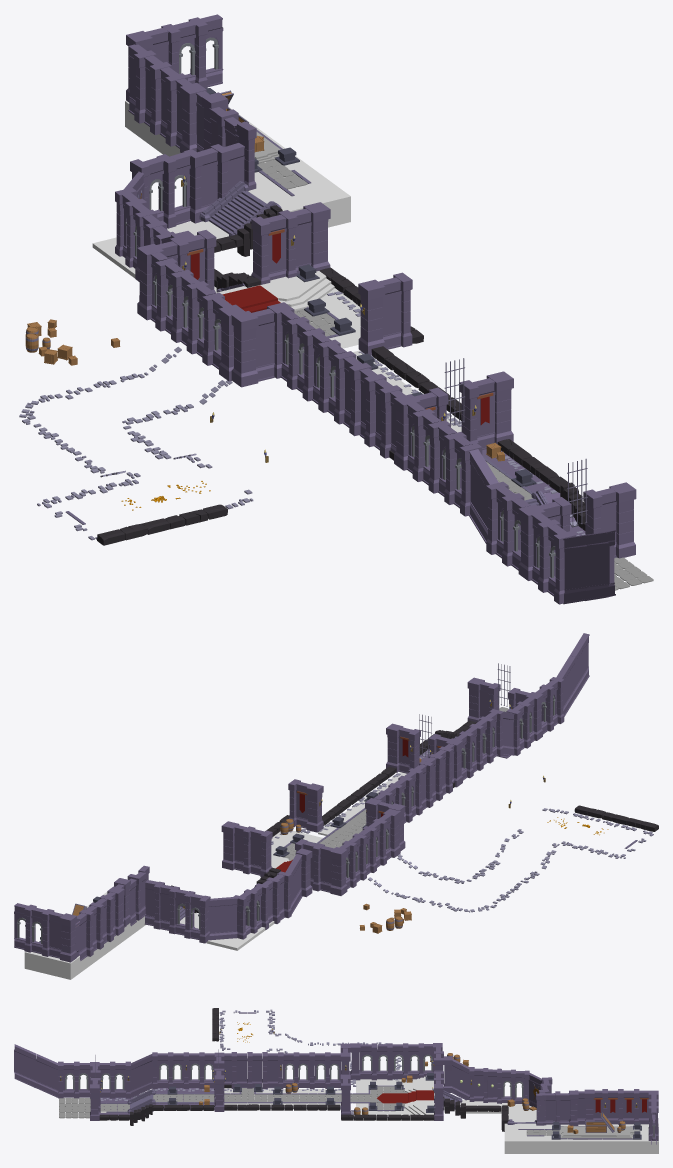
Rendered from nothrone.glb.
3 views of the same model, one above another, from view 1: azimuth 30°, elevation 25°; view 2: azimuth 150°, elevation 25°; view 3: azimuth 270°, elevation 25° (orthographic). The views are drawn at different scales.
Visible parts, largest first — view 1: Floor_Stone.050, Cube.005, Window.015, Steps.002, Window.021, Column.012, Column.005, P_Steps, Column.022, Column.010, Window.013, Column.000 (+33 smaller); view 2: Floor_Stone.050, Window.027, Cube.006, Window.021, Column.022, Column.016, Window.015, Column.026, Column.010, Column.005, Window.030, Column.017 (+8 smaller); view 3: Cube.005, Window.015, Floor_Stone.050, Cube.004, Cube.001, Window.013, Window.021, P_Treasure, P_Steps, Window.030, Rug, Cube (+50 smaller).
Boxes of the visible parts, left/top/right/bottom form: Floor_Stone.050: left=19, top=291, right=616, bottom=558; Cube.005: left=248, top=155, right=350, bottom=227; Window.015: left=482, top=449, right=592, bottom=604; Steps.002: left=199, top=181, right=281, bottom=236; Window.021: left=585, top=530, right=615, bottom=600; Column.012: left=231, top=311, right=258, bottom=387; Column.005: left=486, top=481, right=524, bottom=566; P_Steps: left=216, top=271, right=334, bottom=310; Column.022: left=537, top=519, right=576, bottom=604; Column.010: left=358, top=279, right=385, bottom=355; Window.013: left=469, top=449, right=498, bottom=543; Column.000: left=609, top=482, right=636, bottom=558; Floor_Stone.050: left=271, top=750, right=653, bottom=912; Window.027: left=208, top=897, right=239, bottom=940; Cube.006: left=24, top=951, right=88, bottom=979; Window.021: left=570, top=633, right=589, bottom=698; Column.022: left=539, top=677, right=564, bottom=731; Column.016: left=330, top=847, right=347, bottom=895; Window.015: left=419, top=655, right=575, bottom=761; Column.026: left=59, top=913, right=76, bottom=962; Column.010: left=306, top=783, right=323, bottom=832; Column.005: left=506, top=701, right=530, bottom=755; Window.030: left=285, top=854, right=302, bottom=914; Column.017: left=221, top=821, right=239, bottom=870; Cube.005: left=504, top=1123, right=568, bottom=1153; Window.015: left=36, top=1054, right=214, bottom=1119; Floor_Stone.050: left=100, top=1009, right=412, bottom=1118; Cube.004: left=568, top=1124, right=631, bottom=1153; Cube.001: left=356, top=1079, right=429, bottom=1120; Window.013: left=130, top=1054, right=152, bottom=1097; Window.021: left=14, top=1044, right=36, bottom=1087; P_Treasure: left=559, top=1126, right=639, bottom=1138; P_Steps: left=405, top=1075, right=434, bottom=1114; Window.030: left=452, top=1059, right=469, bottom=1100; Rug: left=377, top=1090, right=433, bottom=1103; Cube: left=224, top=1089, right=341, bottom=1108.
Bounding box in the file's own units: 62.52 × 13.15 × 123.
